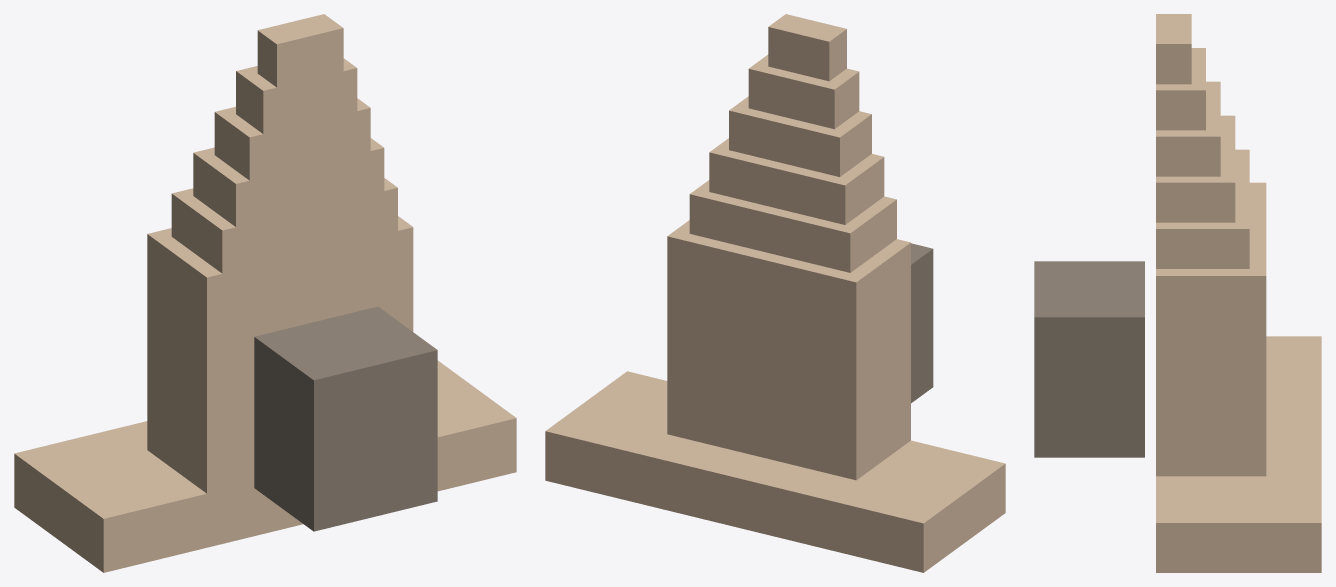
File: dravidian_cut.glb
The picture shows the model from 3 angles, left to right: view 1: azimuth 30°, elevation 25°; view 2: azimuth 150°, elevation 25°; view 3: azimuth 270°, elevation 25°; orthographic projection. The views are drawn at different scales.
Parts seen in each view (by area): view 1: Cube.001, Cube.002, Cube, Cube.004, Cube.005, Cube.006, Cube.007, Cube.008; view 2: Cube.001, Cube, Cube.004, Cube.005, Cube.006, Cube.007, Cube.008, Cube.002; view 3: Cube.001, Cube, Cube.002, Cube.004, Cube.005, Cube.006, Cube.007, Cube.008.
Boxes of the visible parts, bbox=[...] form: Cube.001: bbox=[147, 216, 413, 493]; Cube.002: bbox=[254, 306, 437, 531]; Cube: bbox=[14, 360, 516, 572]; Cube.004: bbox=[171, 178, 397, 273]; Cube.005: bbox=[193, 138, 384, 226]; Cube.006: bbox=[214, 98, 370, 180]; Cube.007: bbox=[236, 58, 357, 133]; Cube.008: bbox=[257, 14, 343, 87]; Cube.001: bbox=[667, 220, 910, 480]; Cube: bbox=[545, 371, 1005, 572]; Cube.004: bbox=[689, 180, 896, 272]; Cube.005: bbox=[709, 138, 884, 224]; Cube.006: bbox=[729, 96, 871, 176]; Cube.007: bbox=[748, 54, 859, 129]; Cube.008: bbox=[768, 14, 846, 81]; Cube.002: bbox=[911, 243, 933, 403]; Cube.001: bbox=[1156, 182, 1266, 476]; Cube: bbox=[1156, 336, 1321, 572]; Cube.002: bbox=[1034, 261, 1144, 457]; Cube.004: bbox=[1156, 149, 1249, 268]; Cube.005: bbox=[1156, 115, 1235, 222]; Cube.006: bbox=[1156, 81, 1220, 176]; Cube.007: bbox=[1156, 48, 1205, 130]; Cube.008: bbox=[1156, 14, 1191, 84].
Size of the model in its own units: 4 by 4.5 by 2.6.
